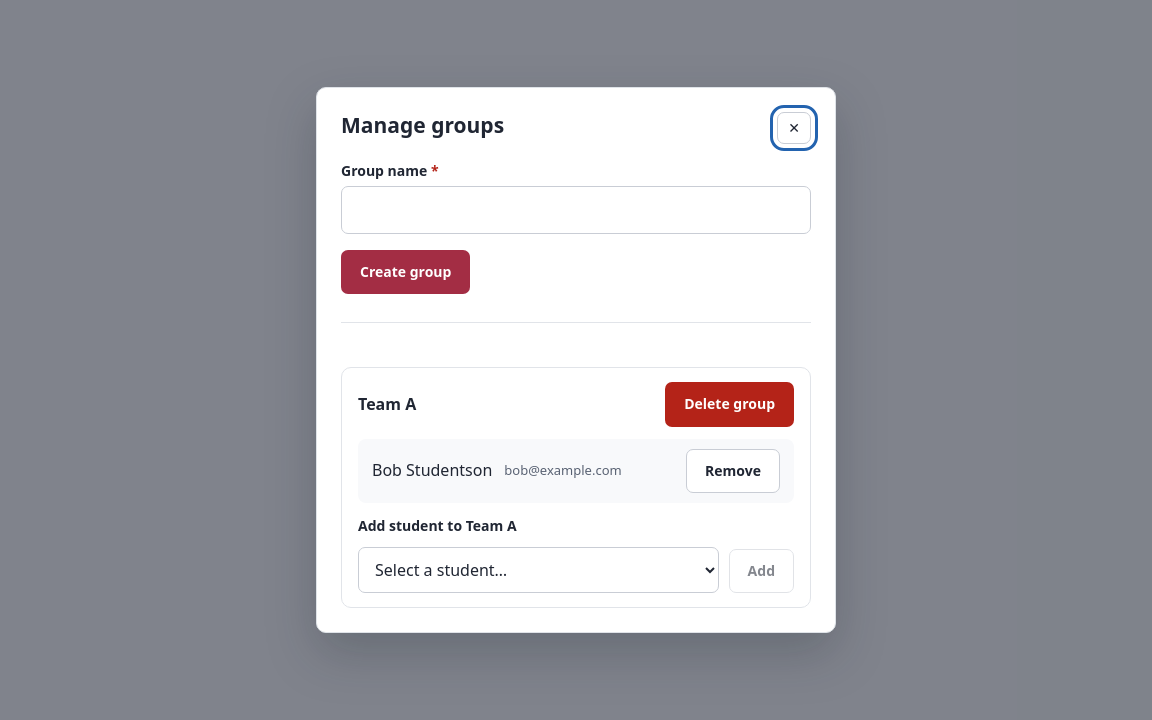
ManageGroupsModal › removes a member from a group
Expected: the text "bob@example.com" is shown, [504,462,622,480]
What coordinates should you click on to do the following:
click the button "Remove"
I would click on:
 (733, 471)
Its box is [686,449,780,493].
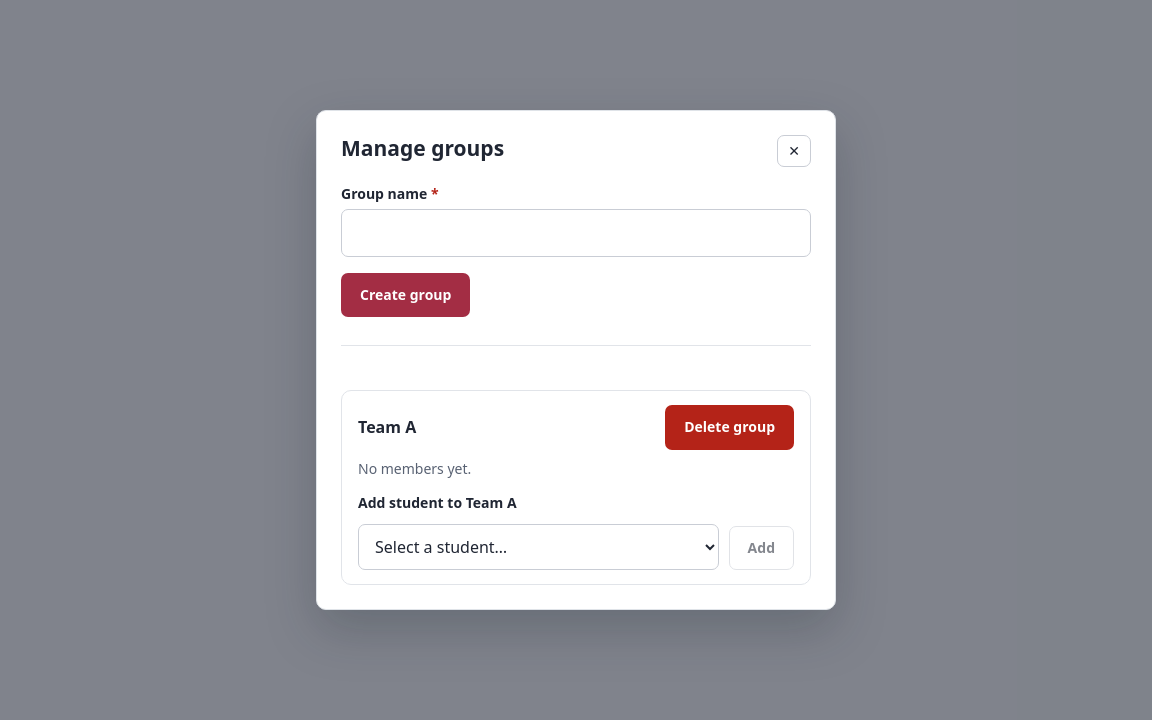
Now the text "No members yet." is shown, box [358,459,471,478]
